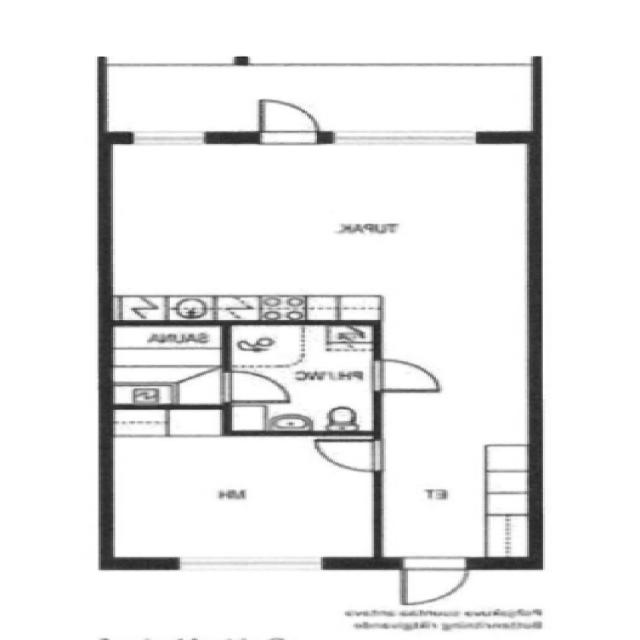door: (249, 94, 328, 148), (395, 556, 474, 608), (363, 356, 453, 396), (305, 434, 391, 475), (216, 365, 292, 408)
window: (322, 124, 494, 152), (169, 551, 338, 575), (118, 126, 222, 149)
zone: (98, 138, 550, 326), (103, 411, 382, 565), (378, 325, 534, 565), (224, 320, 380, 435), (97, 322, 231, 408)
